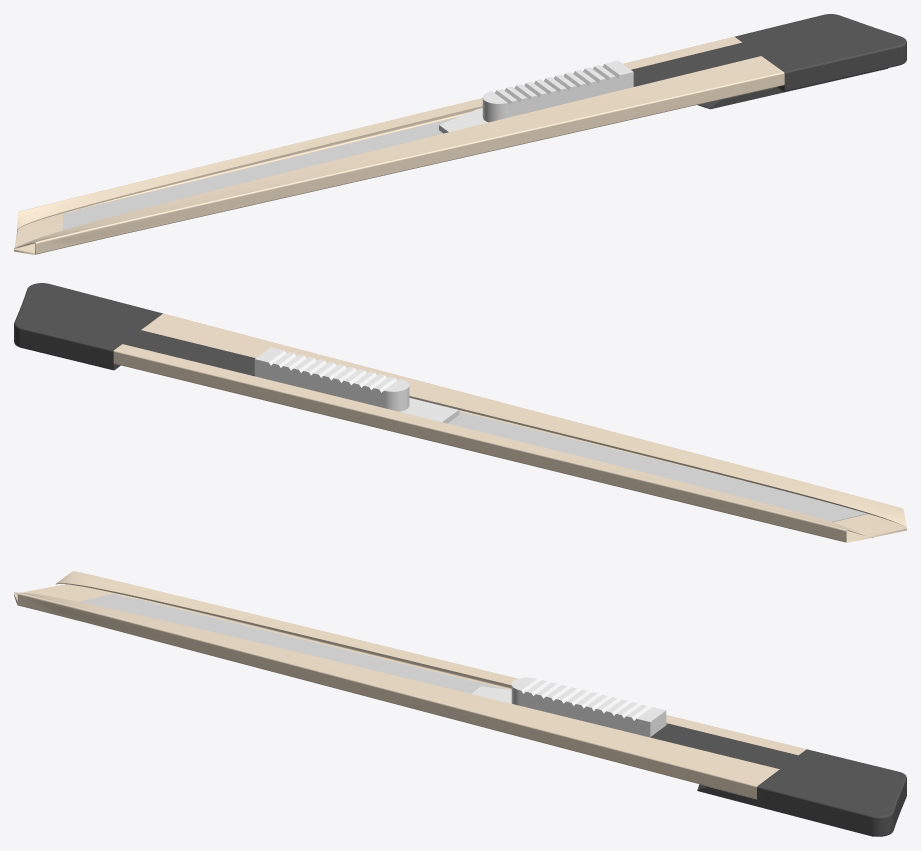
The model's file is 247_カッターナイフ.glb.
The picture shows the model from 3 angles, top to bottom: view 1: azimuth 30°, elevation 25°; view 2: azimuth 150°, elevation 25°; view 3: azimuth 330°, elevation 25°; orthographic projection. The views are drawn at different scales.
Visible parts, largest first — view 1: Body, 蓋, 刃, スライダー; view 2: Body, 蓋, 刃, スライダー; view 3: Body, 蓋, 刃, スライダー.
Boxes of the visible parts, x1,y1,x2,y2 form: Body: (14,36,784,254); 蓋: (631,14,906,109); 刃: (62,117,457,230); スライダー: (439,60,633,133); Body: (113,313,906,542); 蓋: (14,283,255,376); 刃: (448,411,867,522); スライダー: (254,347,459,423); Body: (14,571,806,799); 蓋: (650,723,906,836); 刃: (79,593,505,693); スライダー: (471,677,666,737).
Size of the model in its own units: 0.1376 by 0.0062 by 0.0142.
